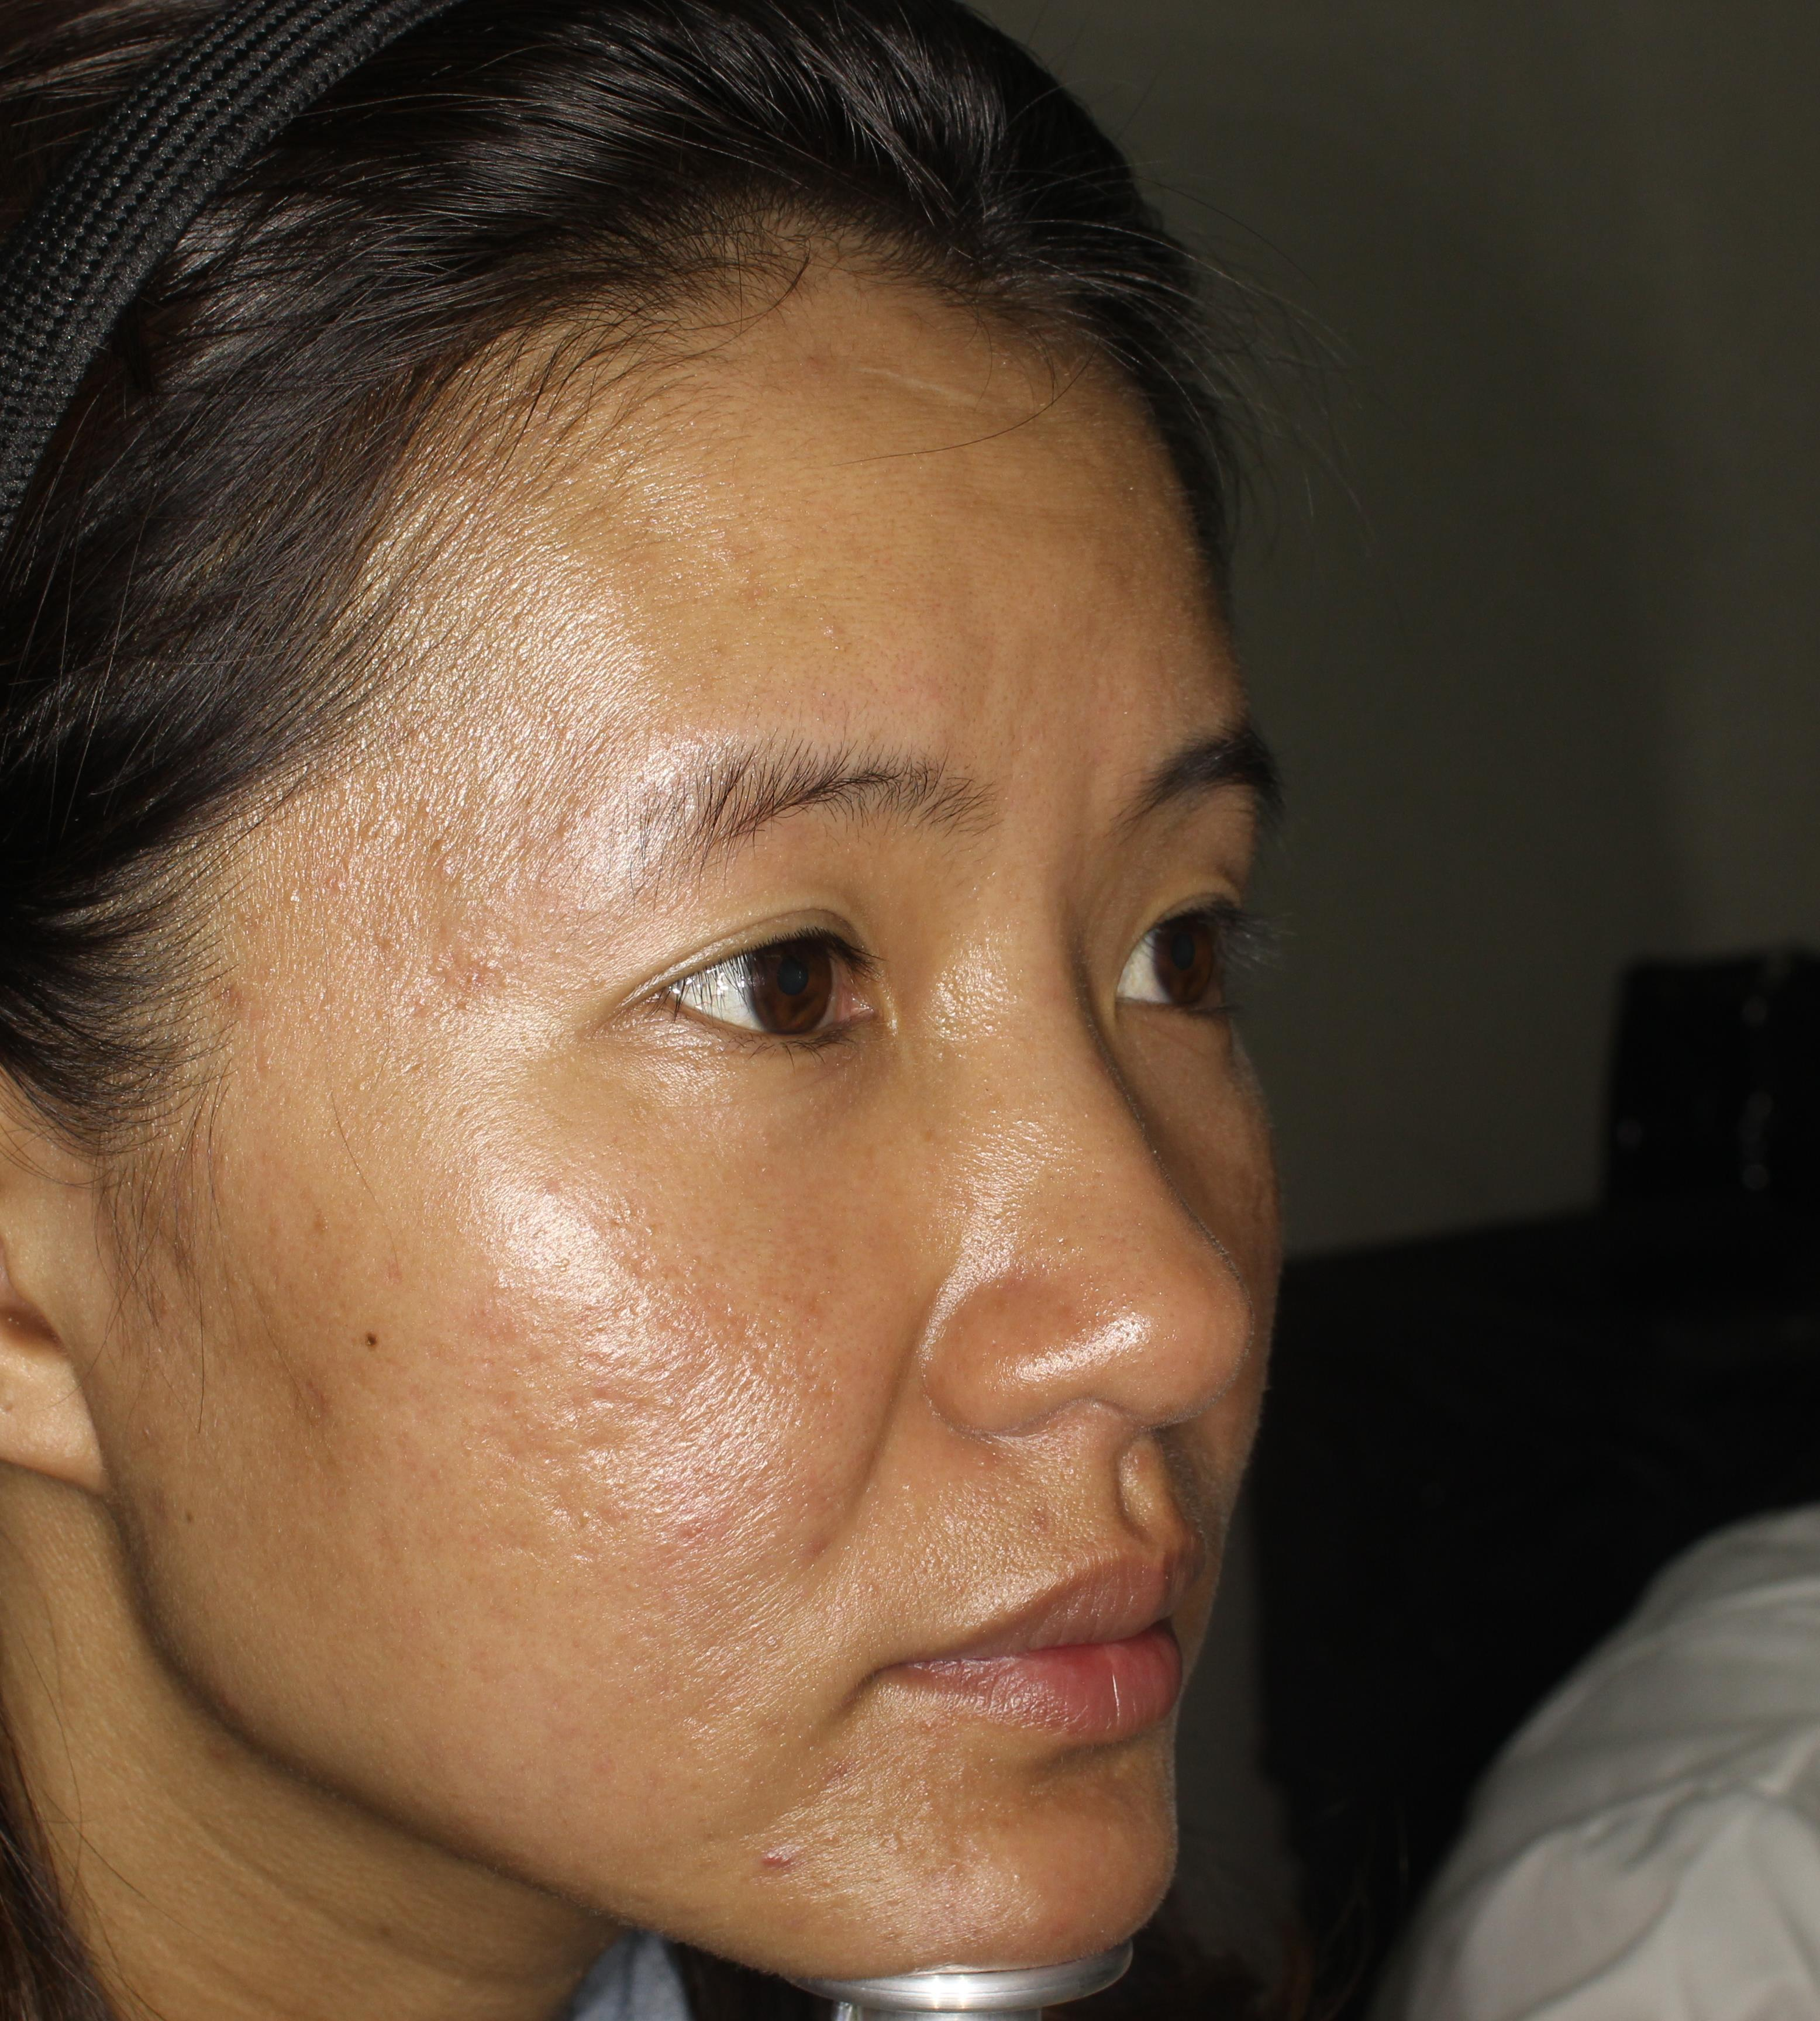fore: (727, 1826, 852, 1903)
